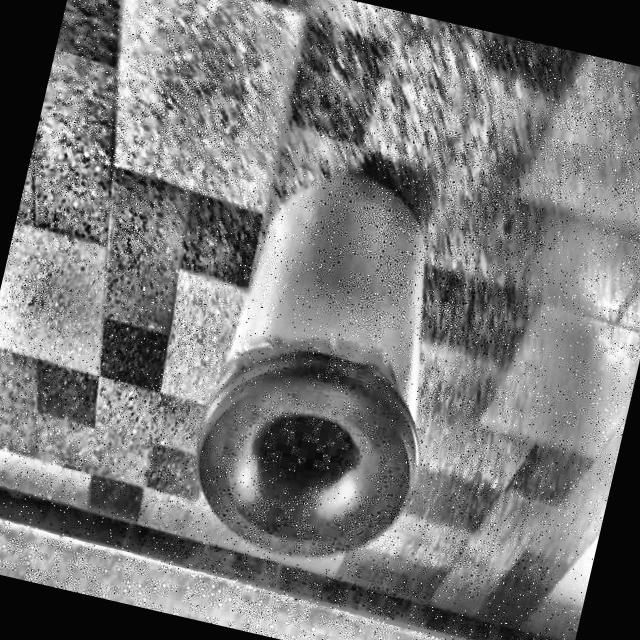Dustbin: (132, 105, 543, 622)
